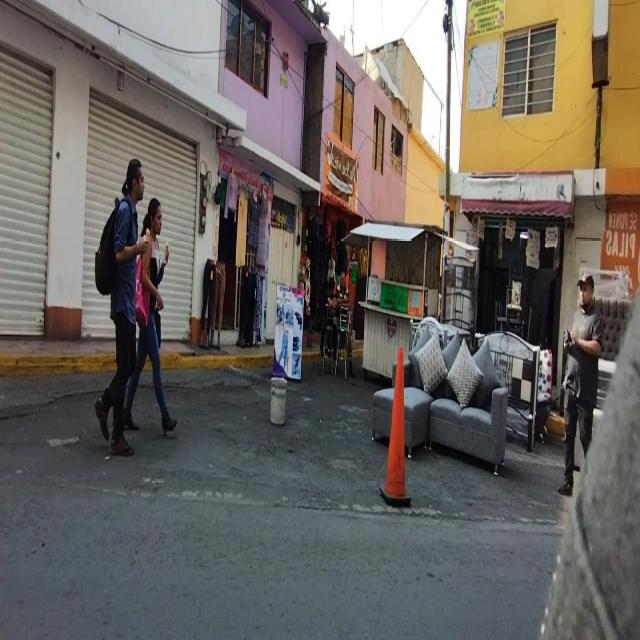adult: (94, 160, 148, 461), (128, 197, 180, 437), (556, 270, 601, 500)
